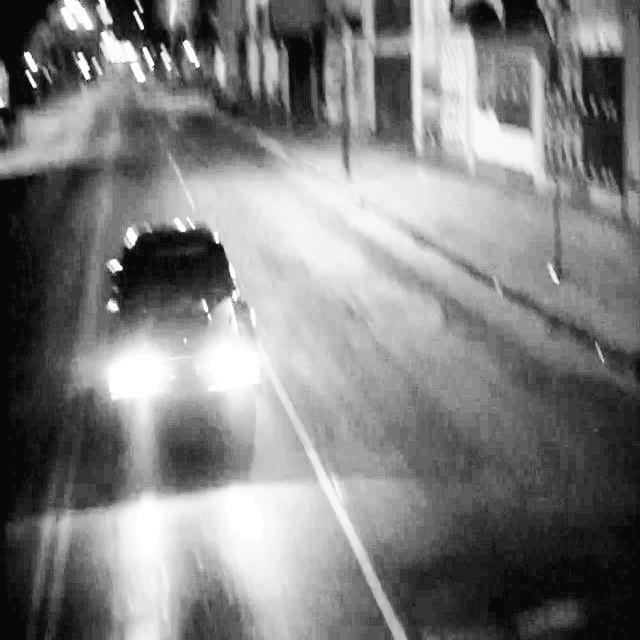Car: (96, 210, 277, 489)
